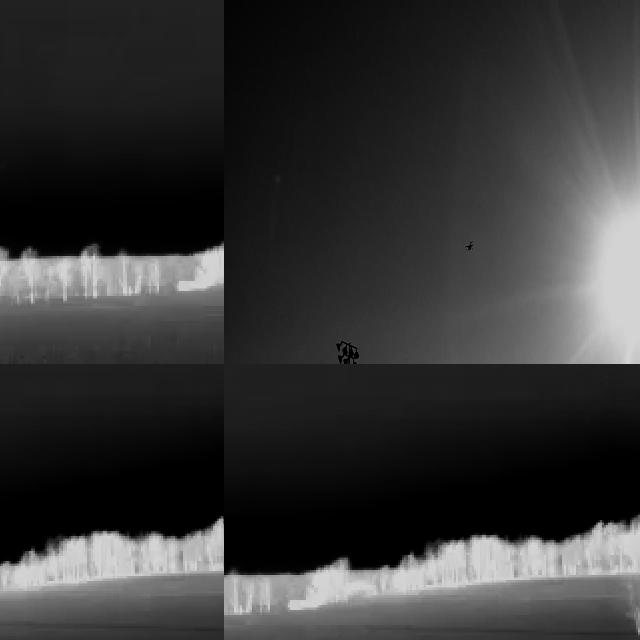drone: (463, 233, 475, 256)
